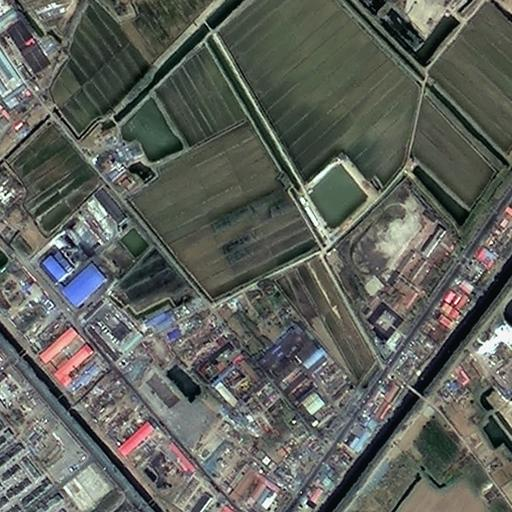school: (341, 168, 459, 366)
